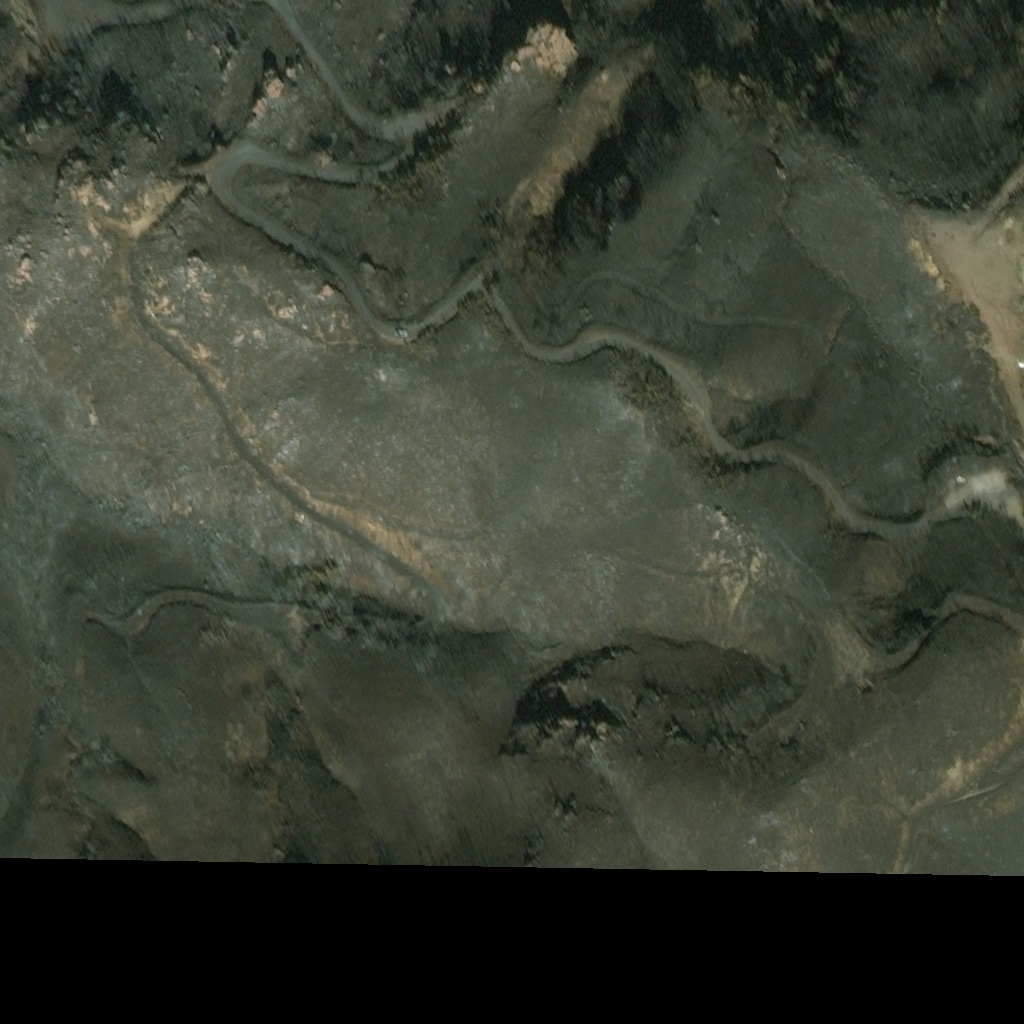4 un-classified: (878, 247, 889, 252)
